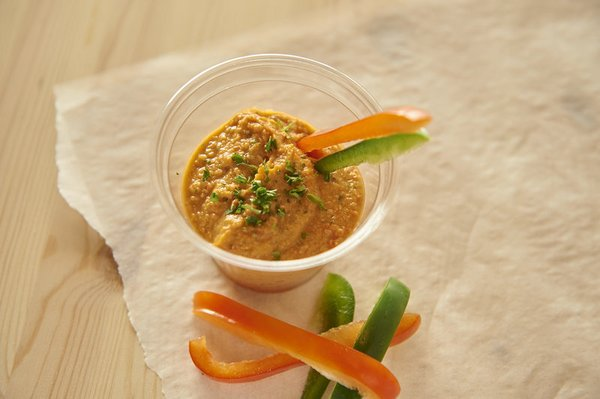sushi: (153, 53, 402, 293)
